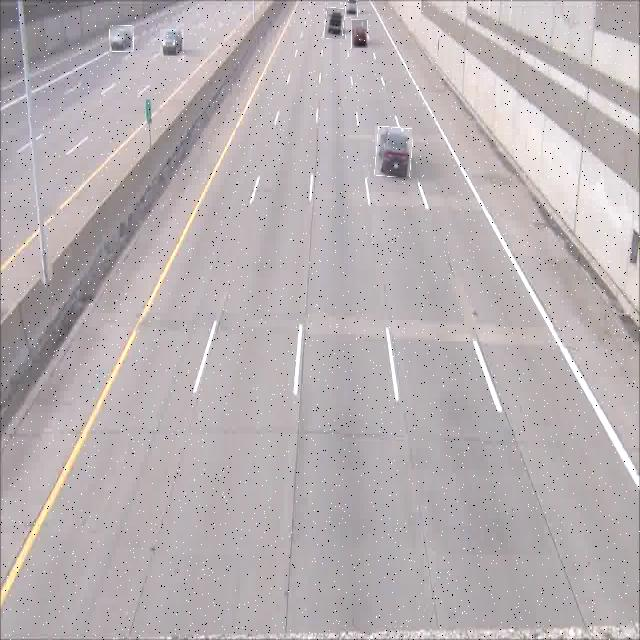Car: (375, 126, 412, 176), (160, 29, 184, 57), (110, 26, 134, 52), (325, 8, 345, 39), (352, 19, 368, 48), (346, 0, 358, 18)
